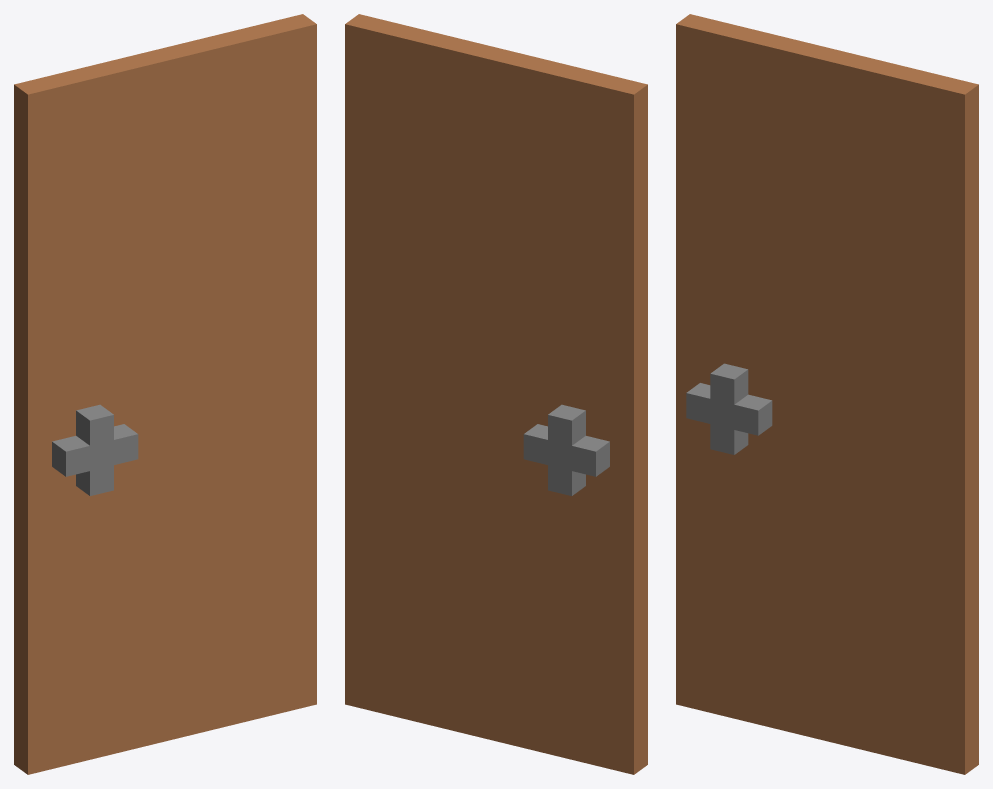
File: Interior_Furniture_Misc_Piece_Door_Panel.obj
3 views of the same model, side by side, from view 1: azimuth 30°, elevation 25°; view 2: azimuth 150°, elevation 25°; view 3: azimuth 330°, elevation 25° (orthographic).
Bounding box in the file's own units: 1.2 × 2.7 × 0.3.
Materials: 1 (1 with a texture image).
